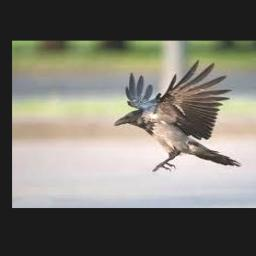Crow: (115, 60, 243, 172)
